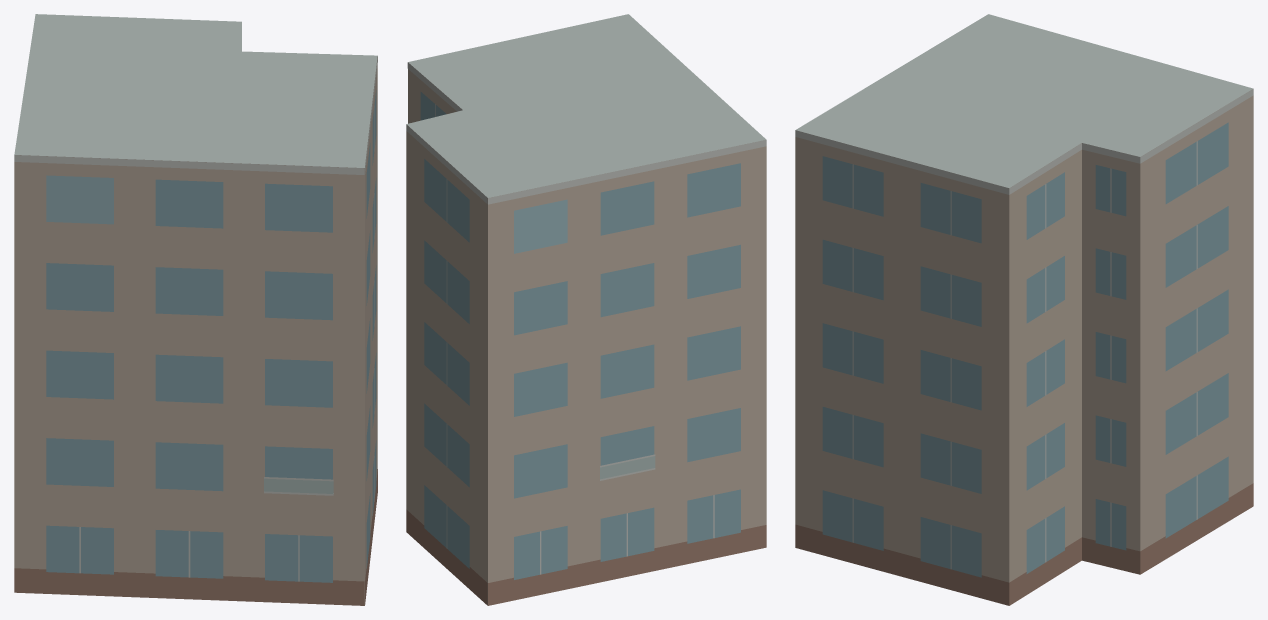
Rendered from survey-upis-32534880.glb.
The picture shows the model from 3 angles, left to right: view 1: azimuth 30°, elevation 25°; view 2: azimuth 150°, elevation 25°; view 3: azimuth 270°, elevation 25°; orthographic projection. The views are drawn at different scales.
Visible parts, largest first — view 1: survey-upis-32534880.tmp; view 2: survey-upis-32534880.tmp; view 3: survey-upis-32534880.tmp.
Part boxes in pixels (x1=…): survey-upis-32534880.tmp: x1=14, y1=14, x2=377, y2=605; survey-upis-32534880.tmp: x1=406, y1=14, x2=766, y2=605; survey-upis-32534880.tmp: x1=795, y1=14, x2=1253, y2=605.
Size of the model in its own units: 13.56 by 15.15 by 15.08.
